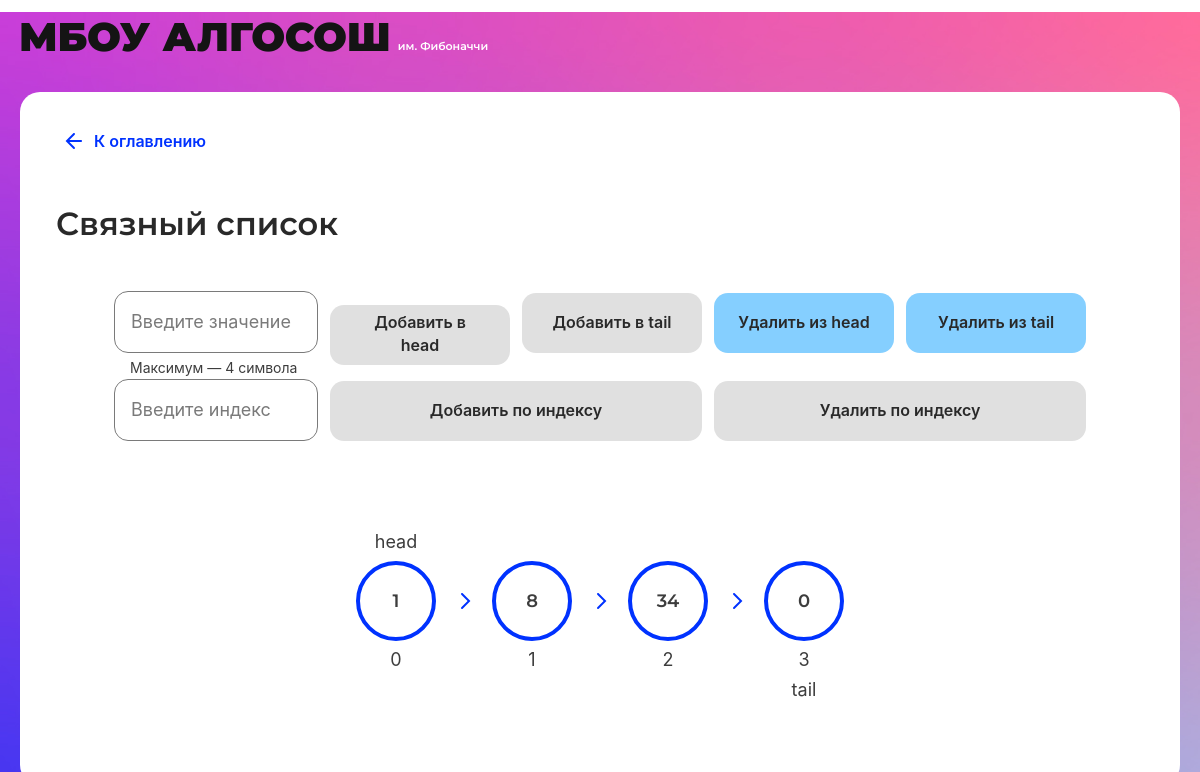
Test case: List tests › should add an element to the head correctly
The image size is (1200, 772).
Type "a" into the field with test id "input-val" at (216, 322), box top-left (114, 291), bottom-right (318, 353)
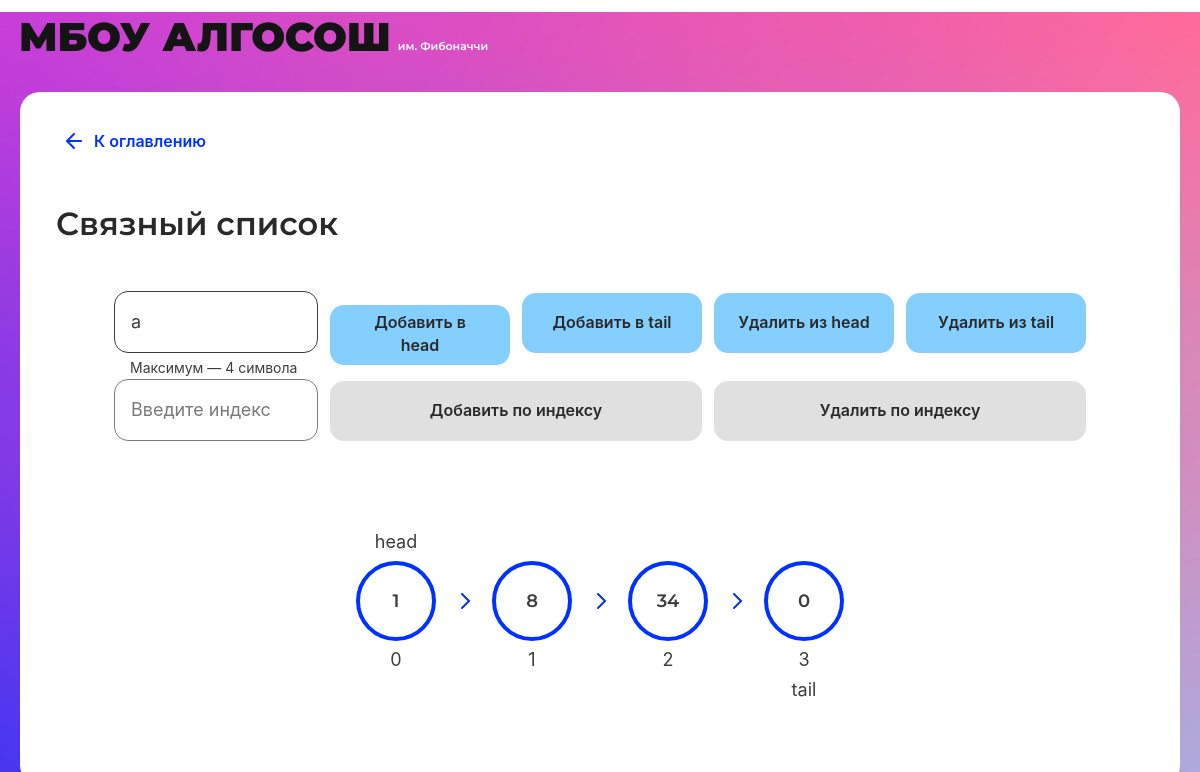
Click the button with test id "button-add-head" at (420, 335), box top-left (330, 305), bottom-right (510, 365)
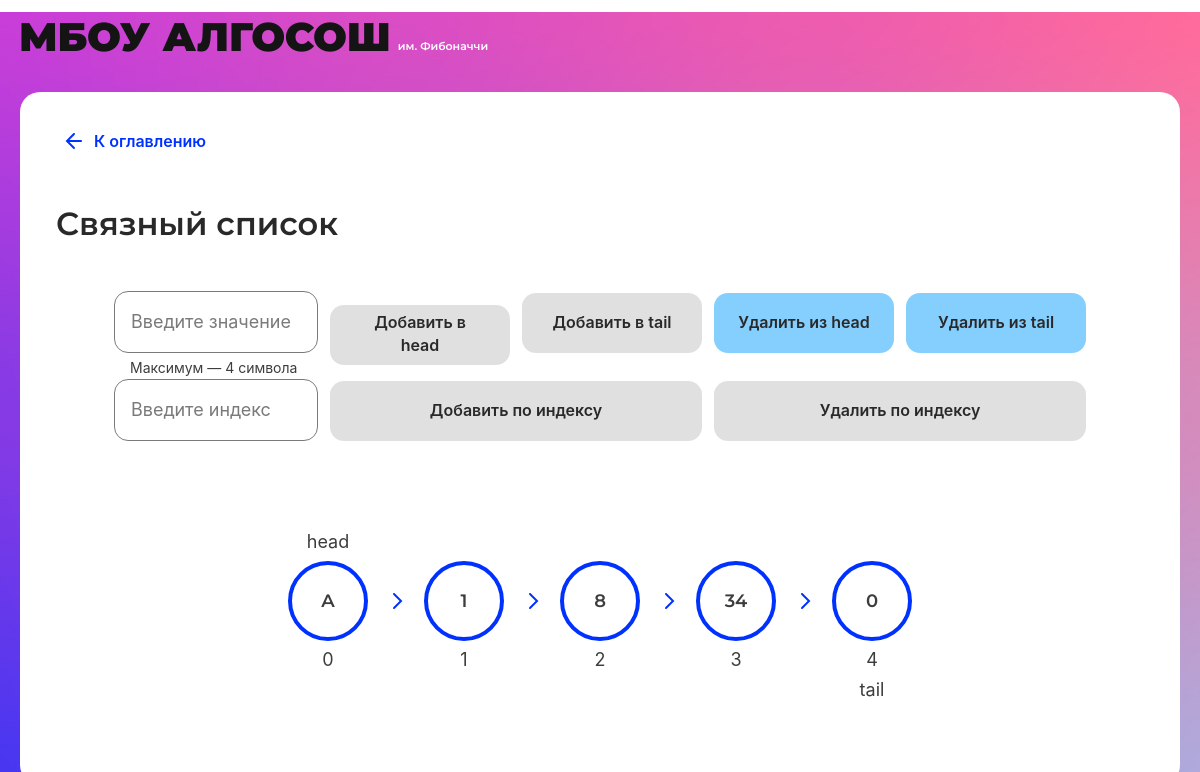
Expected: the text with test id "circle_letter" reads "a", top-left (321, 590), bottom-right (335, 612)
